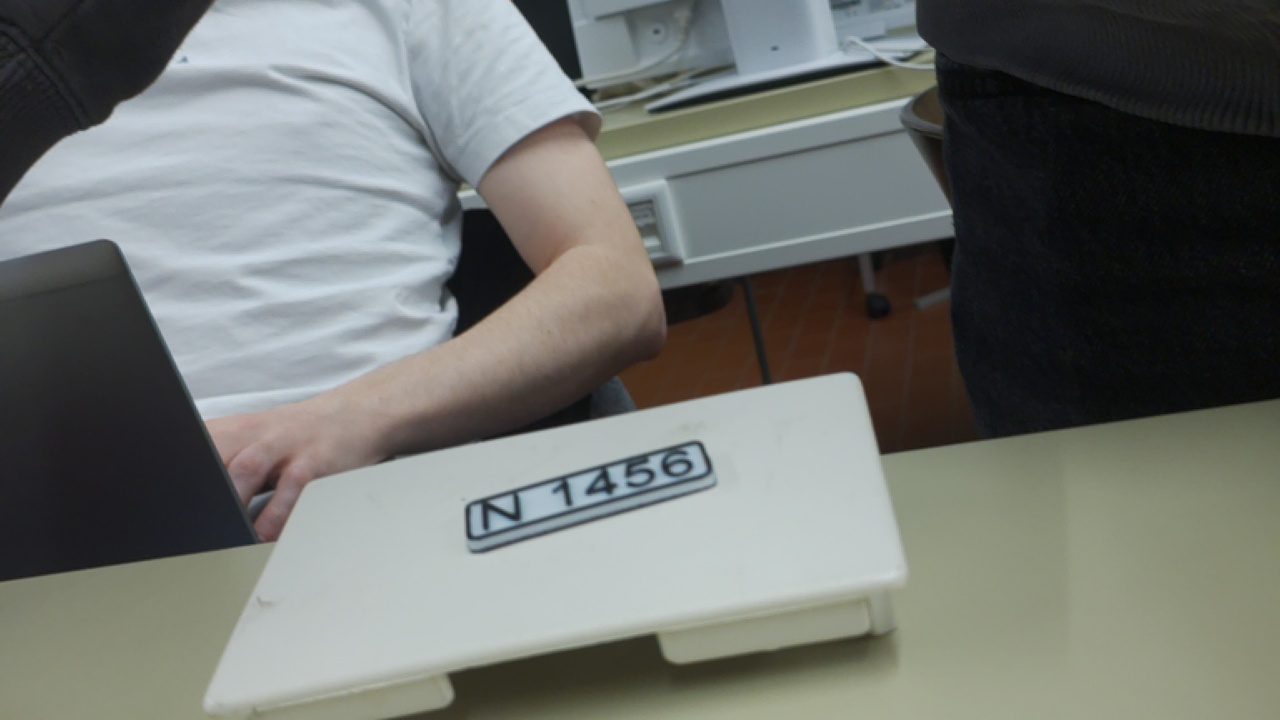license_plate: (454, 432, 721, 561)
